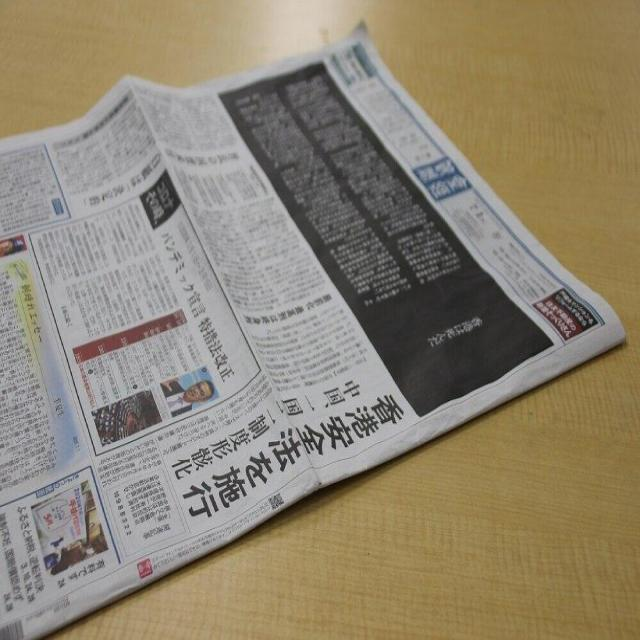newspaper: (0, 27, 632, 637)
